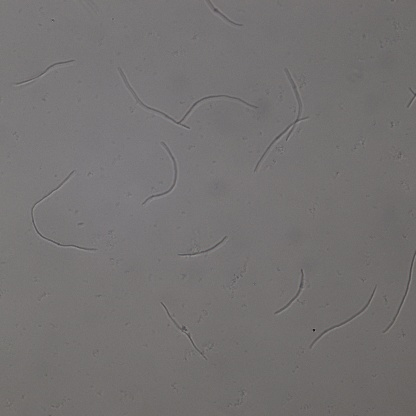Sensitive: (30, 170, 97, 253), (117, 67, 189, 131), (311, 285, 376, 347), (257, 117, 309, 169), (161, 301, 206, 360), (385, 252, 416, 332), (180, 92, 258, 123), (142, 140, 178, 205), (17, 59, 76, 85), (285, 67, 304, 142), (276, 268, 305, 313), (178, 235, 227, 259), (204, 1, 243, 29)
